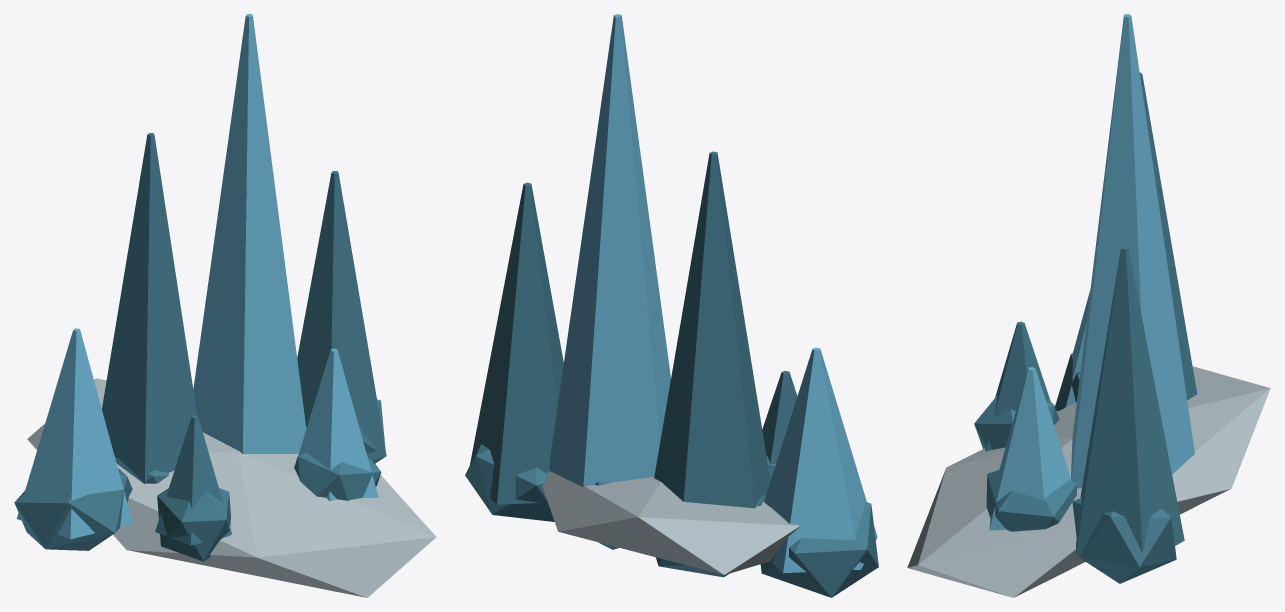
The model's file is Ice_Stalagmite_Fan.glb.
The picture shows the model from 3 angles, left to right: view 1: azimuth 30°, elevation 25°; view 2: azimuth 150°, elevation 25°; view 3: azimuth 270°, elevation 25°; orthographic projection. The views are drawn at different scales.
Visible parts, largest first — view 1: Ice_Stalagmite_Fan; view 2: Ice_Stalagmite_Fan; view 3: Ice_Stalagmite_Fan.
Boxes of the visible parts, x1,y1,x2,y2 form: Ice_Stalagmite_Fan: (14, 14, 436, 597); Ice_Stalagmite_Fan: (465, 14, 878, 597); Ice_Stalagmite_Fan: (907, 14, 1270, 597).
Bounding box in the file's own units: 1.65 × 2.2 × 1.33.
